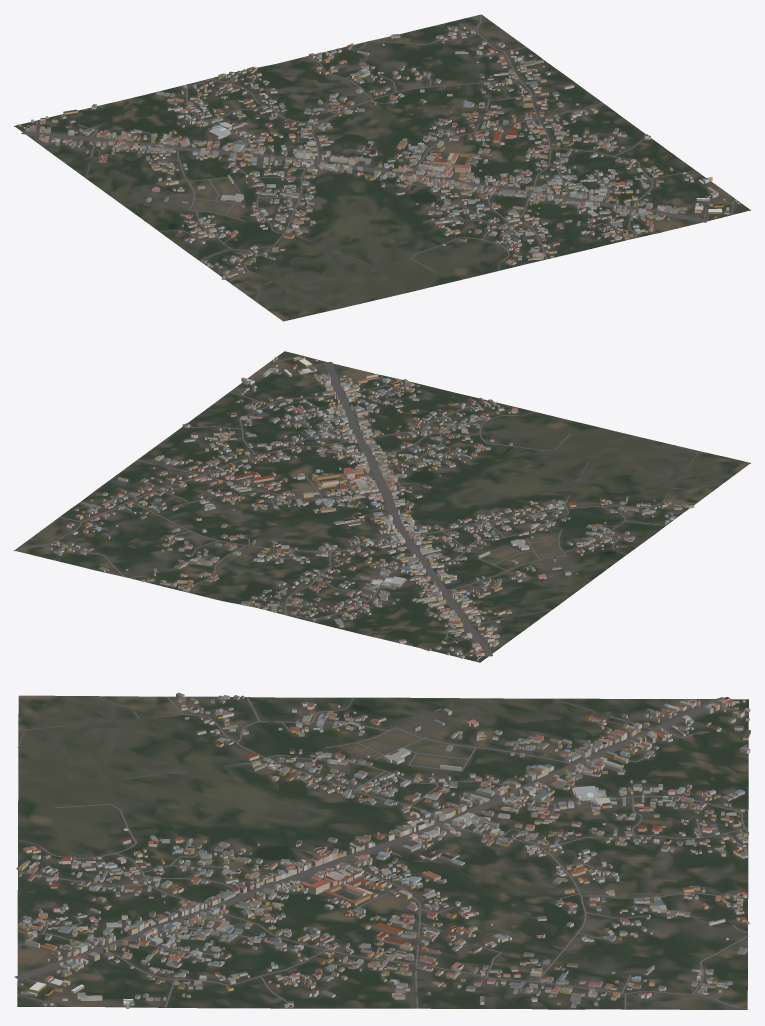
3 renders of one model, top to bottom at view 1: azimuth 30°, elevation 25°; view 2: azimuth 150°, elevation 25°; view 3: azimuth 270°, elevation 25°, orthographic. The views are drawn at different scales.
Parts seen in each view (by area): view 1: ground, buildings, roads; view 2: ground, buildings, roads; view 3: ground, buildings, roads, water.
Part boxes in pixels (<box>): ground: <box>14,14,750,321</box>; buildings: <box>18,25,740,279</box>; roads: <box>21,14,736,308</box>; ground: <box>14,351,750,662</box>; buildings: <box>49,355,694,660</box>; roads: <box>15,356,724,656</box>; ground: <box>17,695,748,1009</box>; buildings: <box>16,692,750,1008</box>; roads: <box>14,696,748,1009</box>; water: <box>20,704,620,948</box>.
Bounding box in the file's own units: 1412 × 24.46 × 1415.
